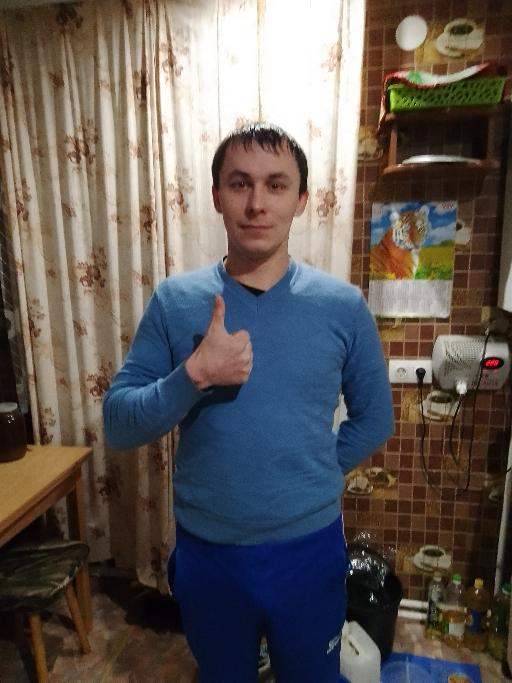like: (195, 291, 255, 389)
